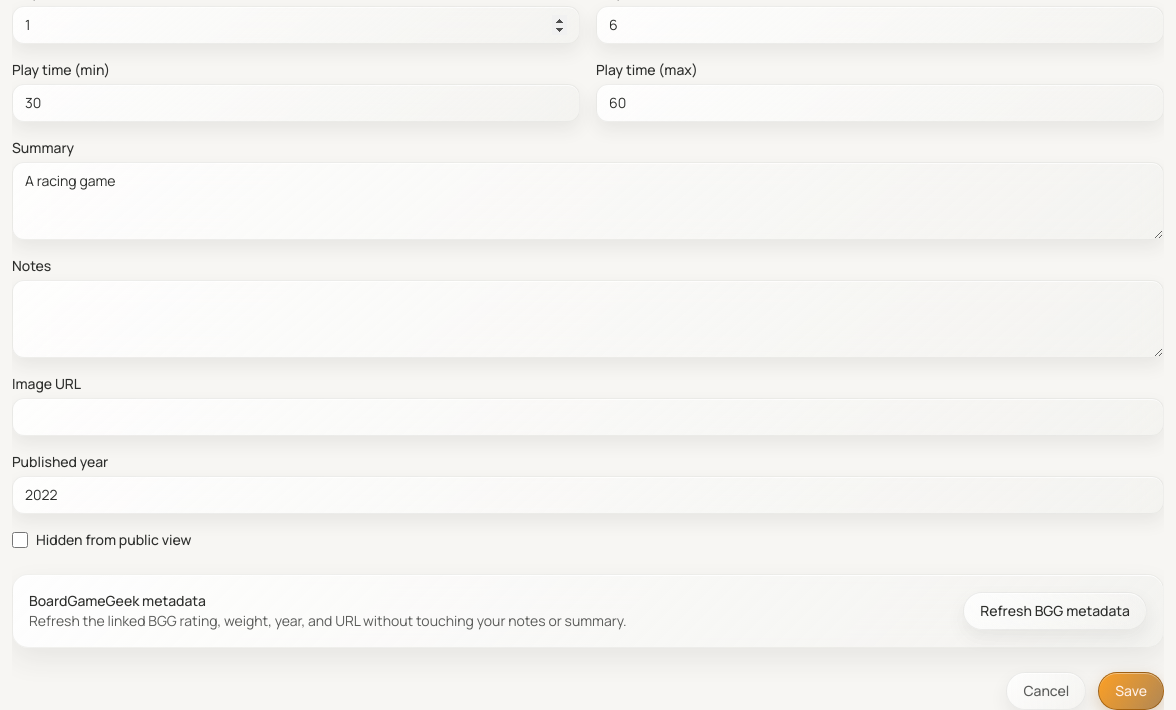
Test case: GameForm BGG refresh › lets the owner refresh BGG metadata for an existing game and updates the form values
(page scrolled)
Click the button "Refresh BGG metadata": (1055, 611) [963,592,1147,630]
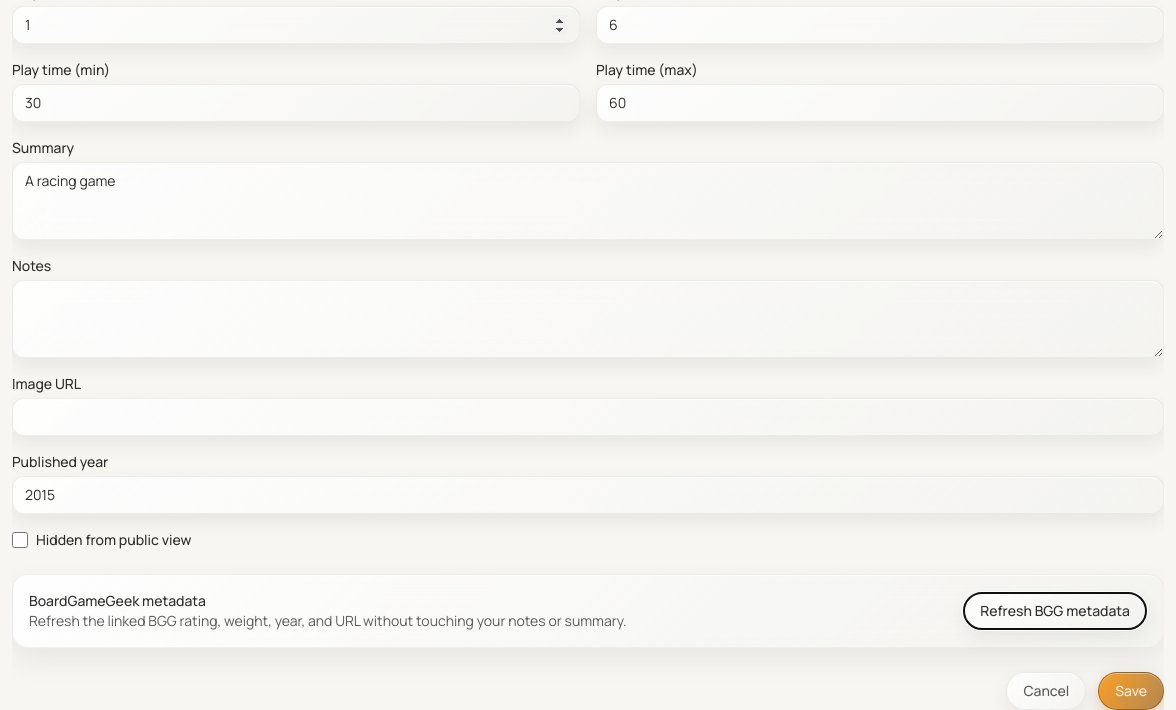
Now the number field showing "2015" is shown, box [12,476,1164,514]
